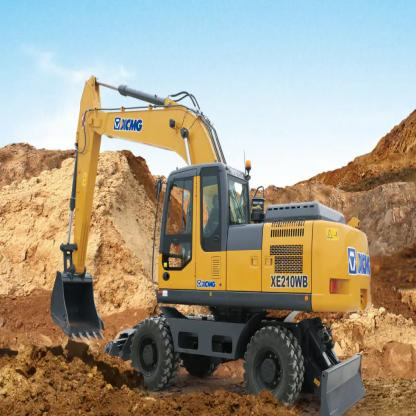excavator: (44, 54, 374, 415)
